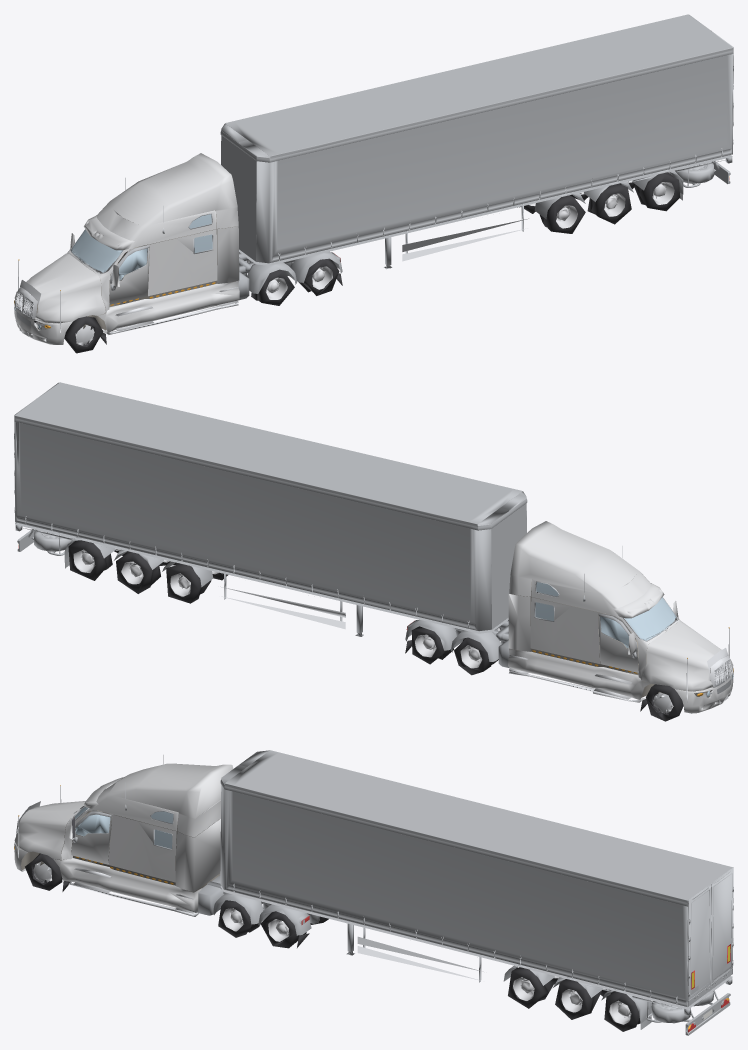
The model's file is archmodels55-20.glb.
3 renders of one model, top to bottom at view 1: azimuth 30°, elevation 25°; view 2: azimuth 150°, elevation 25°; view 3: azimuth 330°, elevation 25°, orthographic.
Visible parts, largest first — view 1: Archmodels55_20_trailer, Archmodels55_20_carpaint, Archmodels55_20_trailer_top, Archmodels55_20_tires, Archmodels55_20_trailer_doors, Archmodels55_20_details, Archmodels55_20_chrome, Archmodels55_20_trailer_top2, Archmodels55_20_glass, Archmodels55_20_rims2, Archmodels55_20_frame, Archmodels55_20_interior (+2 smaller); view 2: Archmodels55_20_trailer, Archmodels55_20_carpaint, Archmodels55_20_trailer_top, Archmodels55_20_tires, Archmodels55_20_trailer_doors, Archmodels55_20_details, Archmodels55_20_chrome, Archmodels55_20_trailer_top2, Archmodels55_20_glass, Archmodels55_20_rims2, Archmodels55_20_frame, Archmodels55_20_interior (+2 smaller); view 3: Archmodels55_20_trailer, Archmodels55_20_trailer_top, Archmodels55_20_carpaint, Archmodels55_20_tires, Archmodels55_20_details, Archmodels55_20_chrome, Archmodels55_20_trailer_doors, Archmodels55_20_trailer_top2, Archmodels55_20_rims2, Archmodels55_20_frame, Archmodels55_20_interior, Archmodels55_20_rims (+4 smaller).
Part boxes in pixels (x1=…): Archmodels55_20_trailer: x1=221, y1=14, x2=733, y2=263; Archmodels55_20_carpaint: x1=14, y1=153, x2=239, y2=344; Archmodels55_20_trailer_top: x1=225, y1=14, x2=733, y2=158; Archmodels55_20_tires: x1=34, y1=172, x2=680, y2=353; Archmodels55_20_trailer_doors: x1=221, y1=135, x2=732, y2=265; Archmodels55_20_details: x1=72, y1=157, x2=732, y2=293; Archmodels55_20_chrome: x1=14, y1=148, x2=722, y2=345; Archmodels55_20_trailer_top2: x1=220, y1=49, x2=733, y2=162; Archmodels55_20_glass: x1=14, y1=229, x2=147, y2=328; Archmodels55_20_rims2: x1=529, y1=180, x2=674, y2=228; Archmodels55_20_frame: x1=16, y1=231, x2=294, y2=334; Archmodels55_20_interior: x1=16, y1=210, x2=235, y2=330; Archmodels55_20_trailer: x1=14, y1=382, x2=526, y2=631; Archmodels55_20_carpaint: x1=508, y1=521, x2=733, y2=713; Archmodels55_20_trailer_top: x1=14, y1=382, x2=522, y2=526; Archmodels55_20_tires: x1=68, y1=540, x2=712, y2=721; Archmodels55_20_trailer_doors: x1=15, y1=503, x2=526, y2=633; Archmodels55_20_details: x1=15, y1=525, x2=678, y2=661; Archmodels55_20_chrome: x1=15, y1=516, x2=733, y2=713; Archmodels55_20_trailer_top2: x1=14, y1=417, x2=527, y2=530; Archmodels55_20_glass: x1=600, y1=597, x2=733, y2=708; Archmodels55_20_rims2: x1=73, y1=548, x2=218, y2=596; Archmodels55_20_frame: x1=82, y1=552, x2=731, y2=698; Archmodels55_20_interior: x1=511, y1=582, x2=713, y2=697; Archmodels55_20_trailer: x1=220, y1=750, x2=733, y2=1006; Archmodels55_20_trailer_top: x1=225, y1=750, x2=732, y2=902; Archmodels55_20_carpaint: x1=14, y1=763, x2=233, y2=912; Archmodels55_20_tires: x1=25, y1=853, x2=653, y2=1031; Archmodels55_20_details: x1=69, y1=755, x2=732, y2=1027; Archmodels55_20_chrome: x1=14, y1=786, x2=732, y2=1003; Archmodels55_20_trailer_doors: x1=220, y1=886, x2=732, y2=1009; Archmodels55_20_trailer_top2: x1=220, y1=779, x2=688, y2=906; Archmodels55_20_rims2: x1=513, y1=976, x2=653, y2=1024; Archmodels55_20_frame: x1=25, y1=808, x2=319, y2=923; Archmodels55_20_interior: x1=19, y1=810, x2=220, y2=892; Archmodels55_20_rims: x1=222, y1=904, x2=289, y2=941.
Size of the model in its own units: 20.9 by 4.46 by 2.47.
